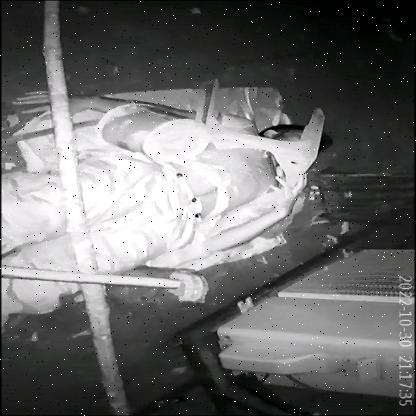hand: (16, 81, 163, 131)
